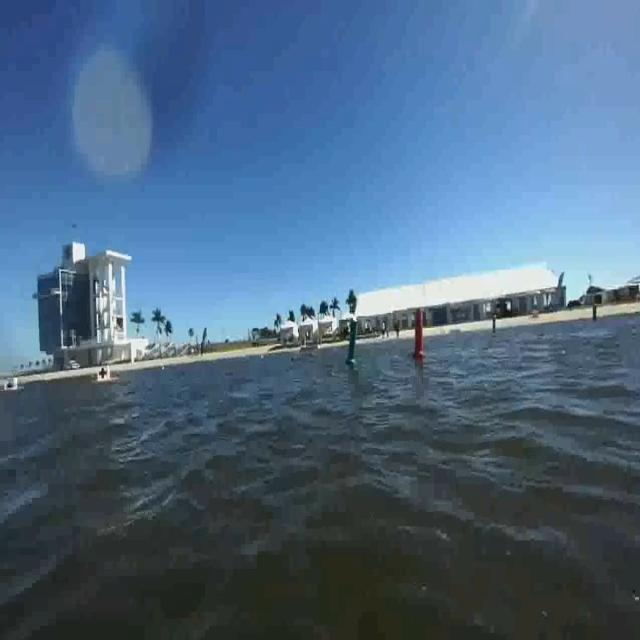green-column-buoy: (346, 321, 360, 366)
red-column-buoy: (412, 310, 428, 362)
